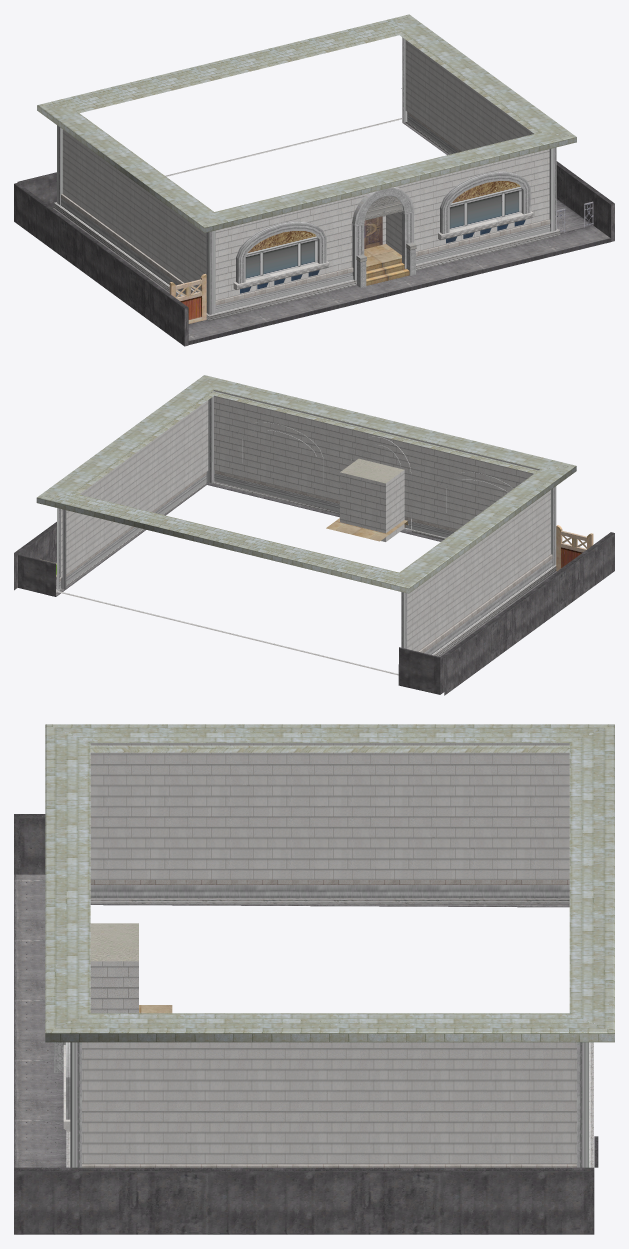
File: BuilB_Base.fbx
The picture shows the model from 3 angles, top to bottom: view 1: azimuth 30°, elevation 25°; view 2: azimuth 150°, elevation 25°; view 3: azimuth 270°, elevation 25°; orthographic projection. The views are drawn at different scales.
Parts seen in each view (by area): view 1: ct2_01_m1_yc1_builbaseB0_18; view 2: ct2_01_m1_yc1_builbaseB0_18; view 3: ct2_01_m1_yc1_builbaseB0_18.
Part boxes in pixels (left/top/right/bottom): ct2_01_m1_yc1_builbaseB0_18: left=14, top=14, right=614, bottom=346; ct2_01_m1_yc1_builbaseB0_18: left=14, top=375, right=614, bottom=695; ct2_01_m1_yc1_builbaseB0_18: left=14, top=724, right=614, bottom=1234.
Size of the model in its own units: 2767 by 649 by 1968.
